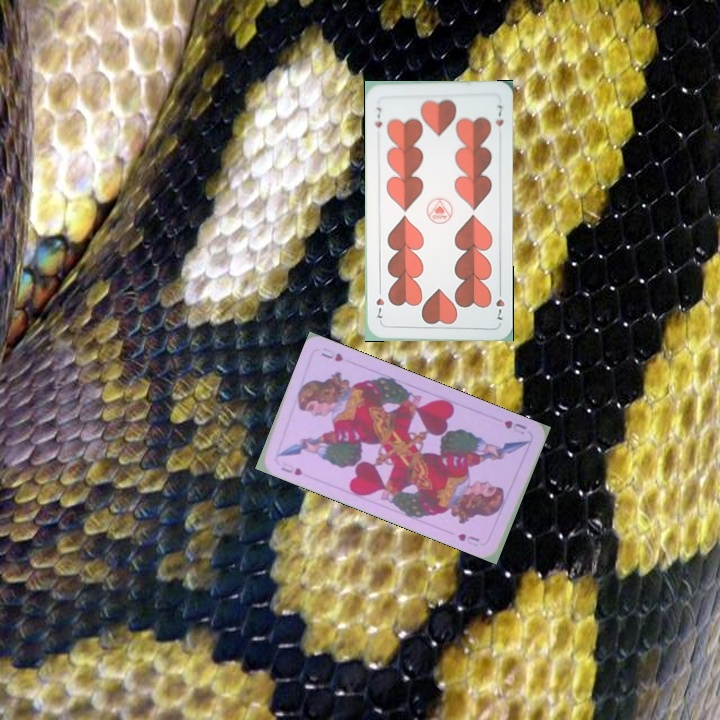H7: (492, 284, 507, 323), (371, 103, 385, 130)
HU: (500, 416, 529, 437), (277, 458, 305, 478)
